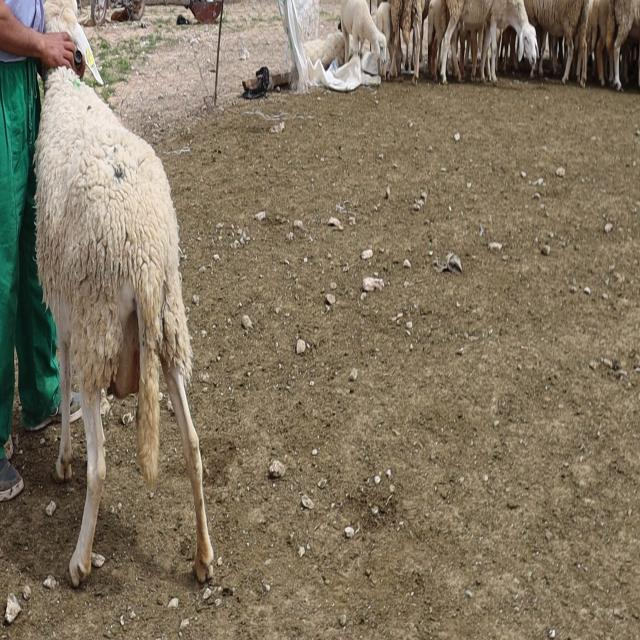Score_4: (35, 69, 213, 587)
